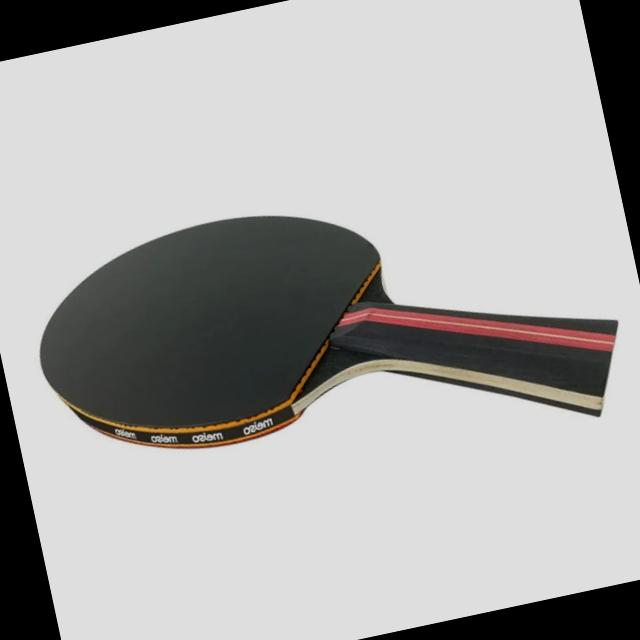TT Racket: (17, 149, 455, 494)
